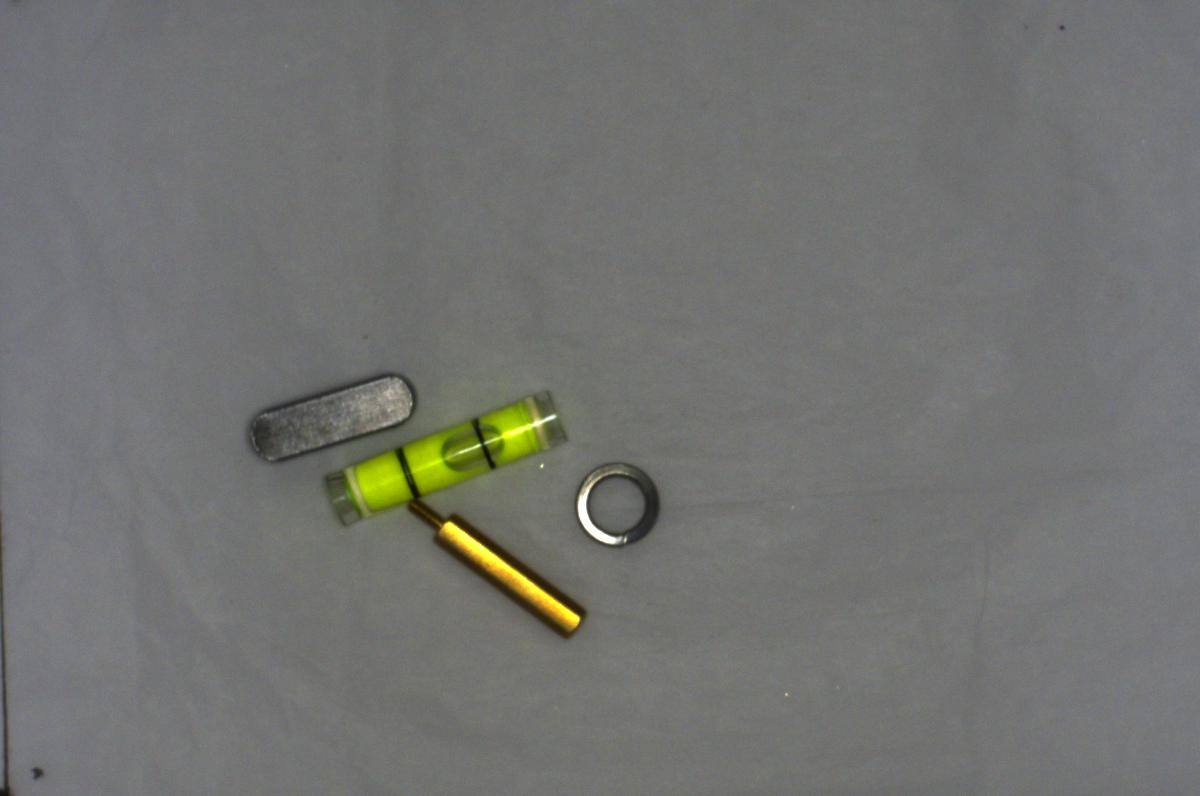Hexagon pillar: (395, 500, 588, 643)
Horizontal bubble: (314, 396, 568, 527)
Keybar: (238, 366, 422, 459)
Spring washer: (566, 459, 664, 552)
